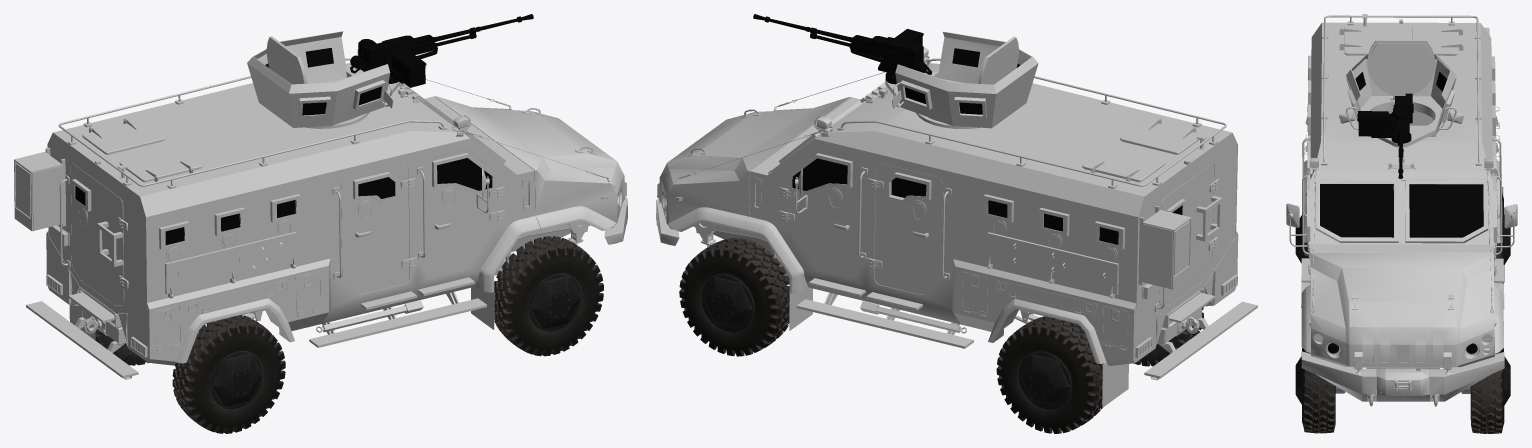
File: varta.fbx
The picture shows the model from 3 angles, left to right: view 1: azimuth 30°, elevation 25°; view 2: azimuth 150°, elevation 25°; view 3: azimuth 270°, elevation 25°; orthographic projection. The views are drawn at different scales.
Visible parts, largest first — view 1: chassis, roue_droite_01, roue_03, glass, axe_canon_01, obj, roue_02; view 2: chassis, roue_gauche_01, roue_02, glass, axe_canon_01, obj, roue_03, tourelle_01; view 3: chassis, glass, roue_gauche_01, roue_droite_01, axe_canon_01, obj, roue_02, roue_03, tourelle_01.
Part boxes in pixels (x1,y1,x2,y2): chassis: [14, 31, 627, 379]; roue_droite_01: [494, 236, 603, 356]; roue_03: [172, 315, 285, 433]; glass: [75, 48, 492, 245]; axe_canon_01: [382, 26, 480, 87]; obj: [350, 39, 403, 83]; roue_02: [95, 329, 148, 365]; chassis: [656, 31, 1257, 407]; roue_gauche_01: [679, 238, 789, 356]; roue_02: [996, 316, 1103, 433]; glass: [792, 48, 1182, 244]; axe_canon_01: [806, 27, 923, 58]; obj: [892, 42, 931, 74]; roue_03: [1133, 307, 1203, 366]; tourelle_01: [850, 49, 897, 84]; chassis: [1286, 14, 1517, 406]; glass: [1306, 71, 1483, 353]; roue_gauche_01: [1470, 348, 1510, 433]; roue_droite_01: [1295, 348, 1335, 433]; axe_canon_01: [1357, 104, 1406, 157]; obj: [1371, 93, 1413, 137]; roue_02: [1496, 192, 1510, 283]; roue_03: [1295, 212, 1308, 263]; tourelle_01: [1391, 108, 1411, 145].
Bounding box in the file's own units: 6.63 × 2.63 × 3.67.
